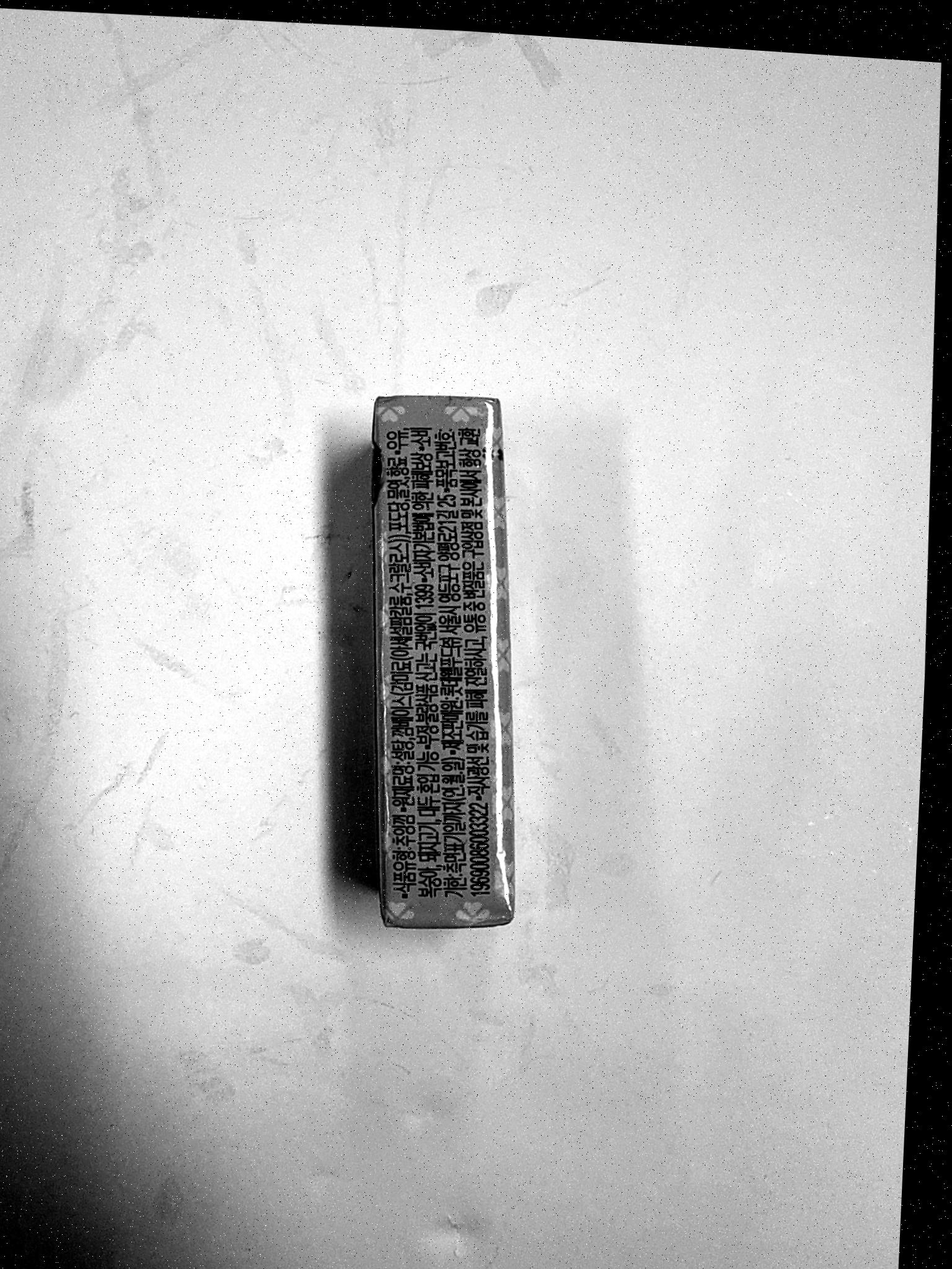gum_yellow: (377, 399, 510, 927)
